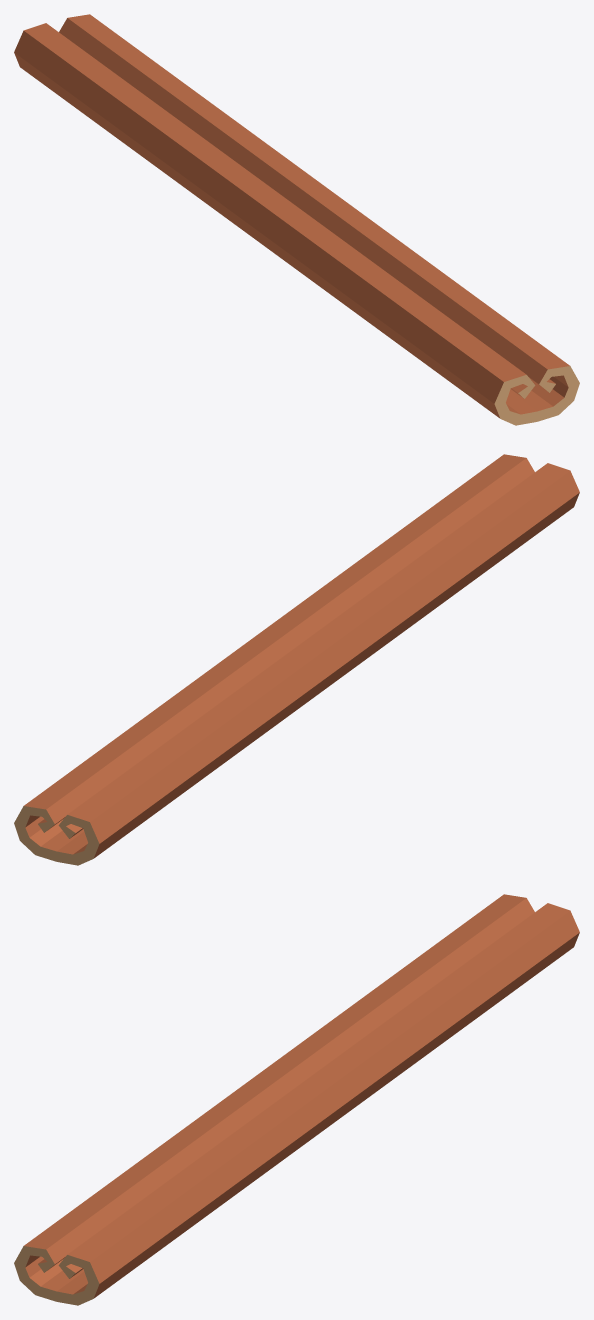
Rendered from Cinnmon stick.glb.
3 views of the same model, one above another, from view 1: azimuth 30°, elevation 25°; view 2: azimuth 150°, elevation 25°; view 3: azimuth 330°, elevation 25° (orthographic).
Visible parts, largest first — view 1: Node; view 2: Node; view 3: Node.
Boxes of the visible parts, x1,y1,x2,y2 form: Node: (14,14,579,425); Node: (14,454,579,865); Node: (14,894,579,1305).
Size of the model in its own units: 0.3328 by 0.1851 by 3.24.
